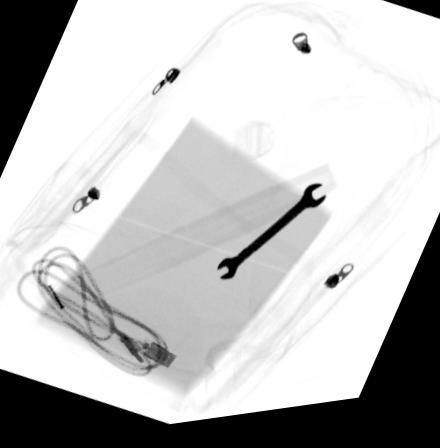Wrench: (215, 189, 326, 285)
